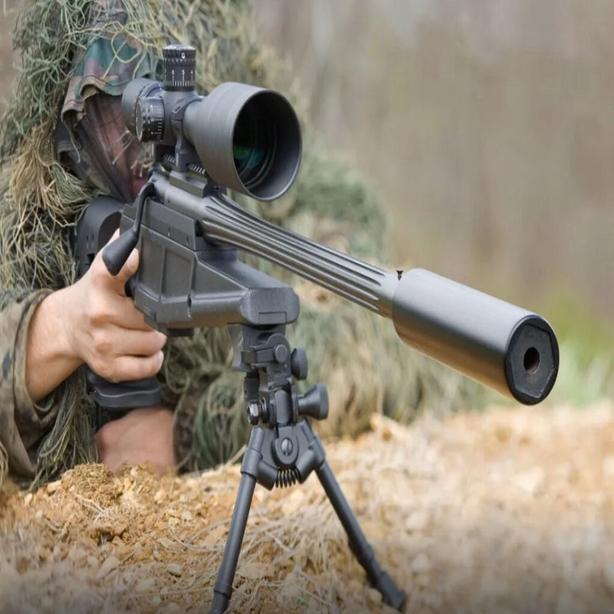Firearm: (41, 37, 565, 614)
